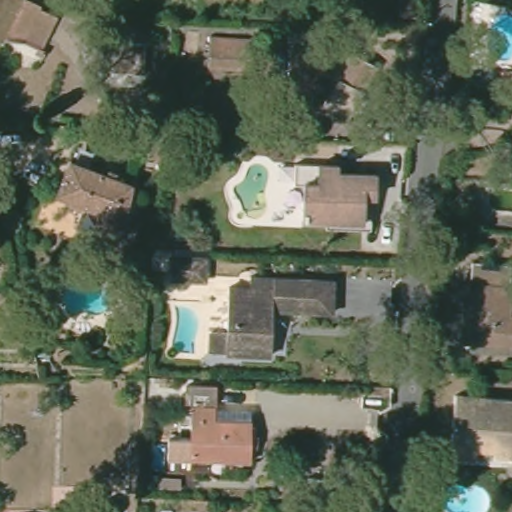pool: (230, 164, 276, 220), (52, 282, 118, 319), (425, 478, 495, 511), (168, 300, 204, 354), (488, 15, 512, 64)
